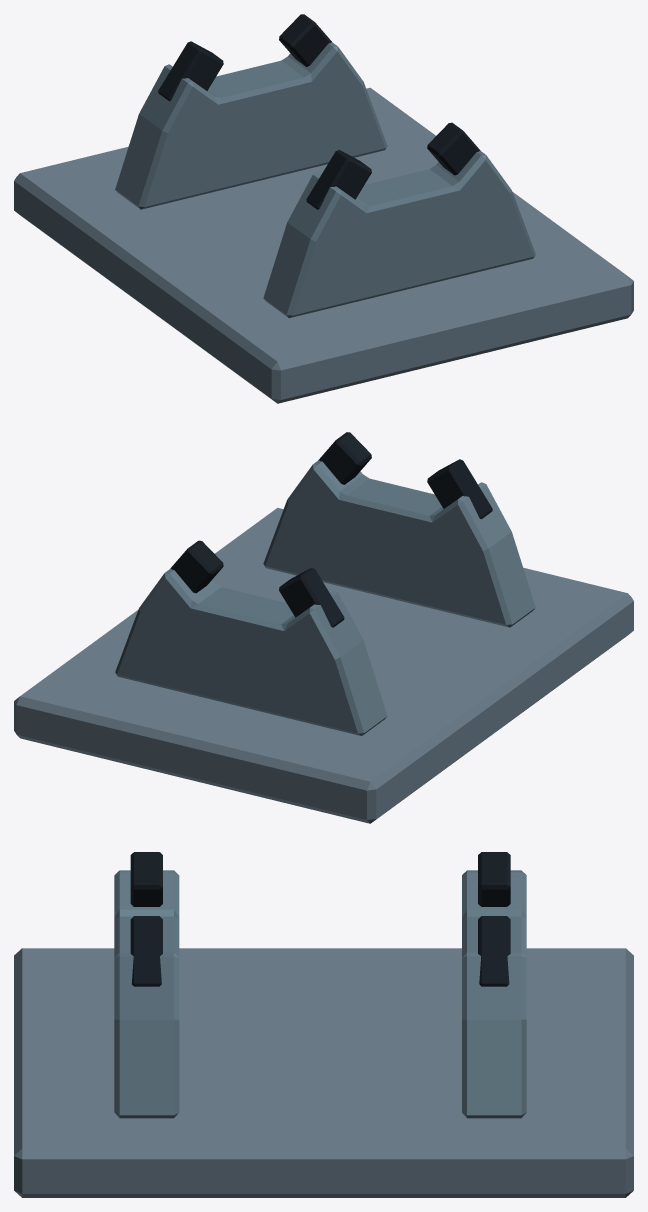
Rendered from EA_DisplayCradle.fbx.
3 views of the same model, one above another, from view 1: azimuth 30°, elevation 25°; view 2: azimuth 150°, elevation 25°; view 3: azimuth 270°, elevation 25° (orthographic). The views are drawn at different scales.
Parts seen in each view (by area): view 1: EA_DisplayCradle; view 2: EA_DisplayCradle; view 3: EA_DisplayCradle.
Part boxes in pixels (x1,y1,x2,y2): EA_DisplayCradle: (14, 14, 633, 403); EA_DisplayCradle: (14, 432, 633, 823); EA_DisplayCradle: (14, 852, 633, 1197).
Bounding box in the file's own units: 1.44 × 0.69 × 1.82.
